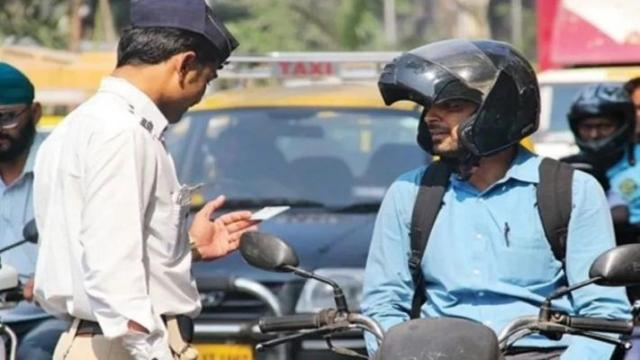helm: (377, 37, 543, 170), (566, 81, 638, 164)
